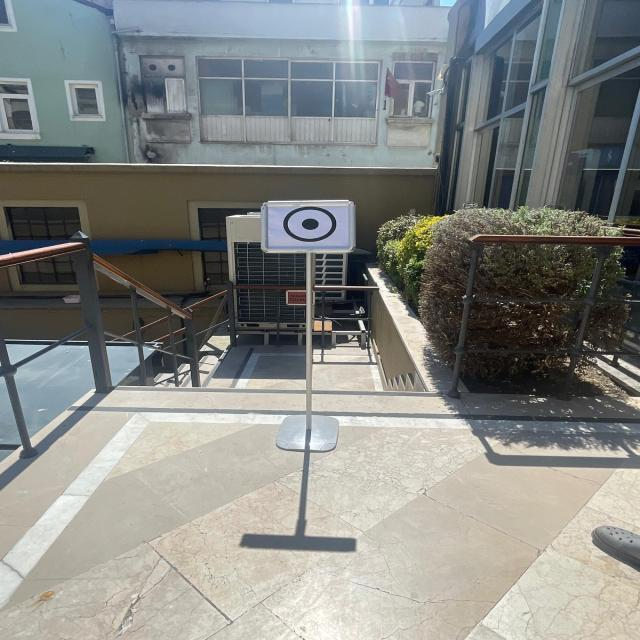Target: (254, 188, 368, 260)
inner: (292, 212, 324, 235)
